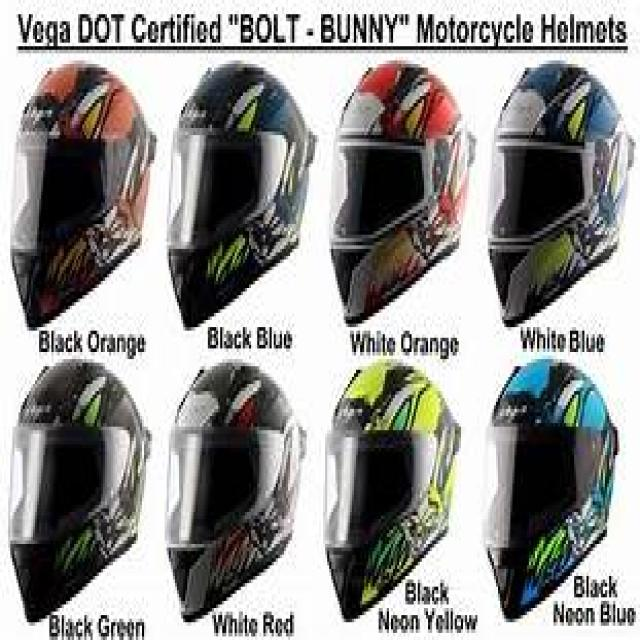helmet: (10, 60, 154, 324), (169, 60, 313, 324), (488, 60, 632, 324), (331, 60, 473, 320), (167, 363, 305, 619), (484, 359, 617, 619), (10, 359, 146, 612), (323, 359, 451, 615)
